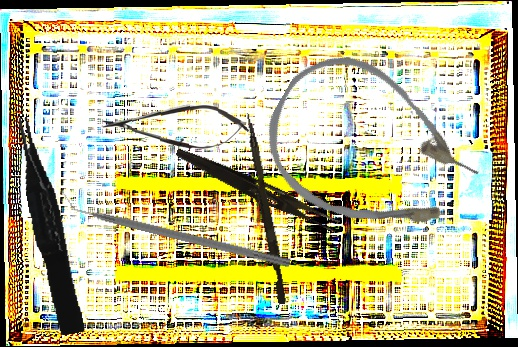Cannula: (242, 33, 500, 269)
Chopper: (58, 189, 295, 268)
Dressing Forceps: (171, 145, 343, 234)
Micro Scissor: (100, 101, 250, 152)
Pusher: (238, 112, 292, 305)
Tissue Forceps: (13, 113, 85, 338)
